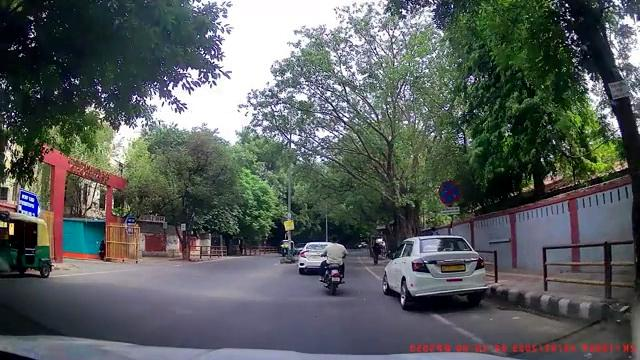motorcycle_without_helmet: (319, 234, 348, 296)
